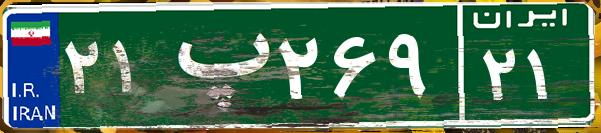1: (110, 28, 158, 105), (525, 38, 570, 115)
2: (273, 28, 330, 110), (57, 26, 110, 107), (475, 38, 525, 113)
6: (330, 28, 385, 110)
9: (385, 28, 445, 110)
پ: (158, 15, 273, 115)
